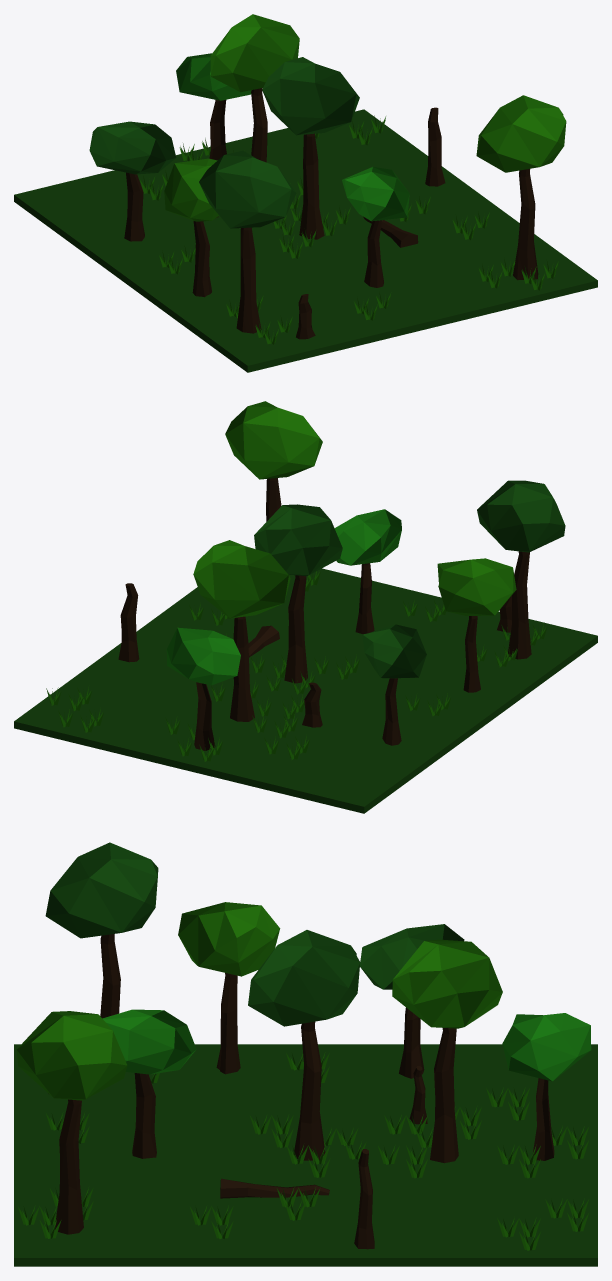
File: trees1.obj
3 views of the same model, one above another, from view 1: azimuth 30°, elevation 25°; view 2: azimuth 150°, elevation 25°; view 3: azimuth 270°, elevation 25° (orthographic). The views are drawn at different scales.
Visible parts, largest first — view 1: Box001, Tron, Feuilles002, Feuilles007, Tron006, Tron005, Tron012, Feuilles003, Feuilles004, Tron008, Tron010, Tron011; view 2: Box001, Tron006, Feuilles002, Tron, Feuilles007, Feuilles003, Feuilles004, Tron012, Tron005, Tron008, Tron009, Tron011; view 3: Box001, Tron, Tron006, Feuilles007, Feuilles002, Feuilles003, Tron012, Feuilles004, Tron005, Tron011, Tron008, Tron009.
Boxes of the visible parts, x1,y1,x2,y2 form: Box001: (14, 109, 597, 372); Tron: (262, 57, 359, 239); Feuilles002: (199, 150, 296, 333); Feuilles007: (476, 95, 566, 280); Tron006: (210, 14, 299, 162); Tron005: (89, 121, 176, 241); Tron012: (342, 167, 409, 287); Feuilles003: (164, 158, 218, 297); Feuilles004: (176, 53, 251, 160); Tron008: (425, 107, 445, 186); Tron010: (296, 294, 315, 339); Tron011: (363, 216, 418, 247); Box001: (14, 568, 597, 813); Tron006: (193, 540, 290, 721); Feuilles002: (477, 480, 565, 659); Tron: (254, 504, 342, 683); Feuilles007: (225, 401, 322, 521); Feuilles003: (437, 558, 516, 692); Feuilles004: (166, 627, 240, 750); Tron012: (334, 509, 401, 634); Tron005: (362, 624, 426, 745); Tron008: (118, 583, 139, 662); Tron009: (302, 682, 322, 727); Tron011: (248, 625, 279, 657); Box001: (14, 1044, 597, 1266); Tron: (248, 930, 360, 1160); Tron006: (392, 939, 502, 1163); Feuilles007: (16, 1011, 127, 1234); Feuilles002: (45, 842, 158, 1018); Feuilles003: (178, 902, 280, 1074); Tron012: (102, 1009, 196, 1158); Feuilles004: (502, 1013, 591, 1160); Tron005: (360, 924, 464, 1078); Tron011: (220, 1178, 329, 1198); Tron008: (354, 1149, 374, 1249); Tron009: (409, 1066, 427, 1124).
Size of what is drawn, in the model's own units: 461 by 224 by 533.
